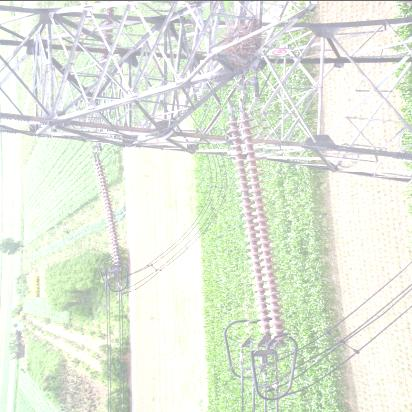insulator: (229, 98, 283, 351), (93, 151, 121, 271)
